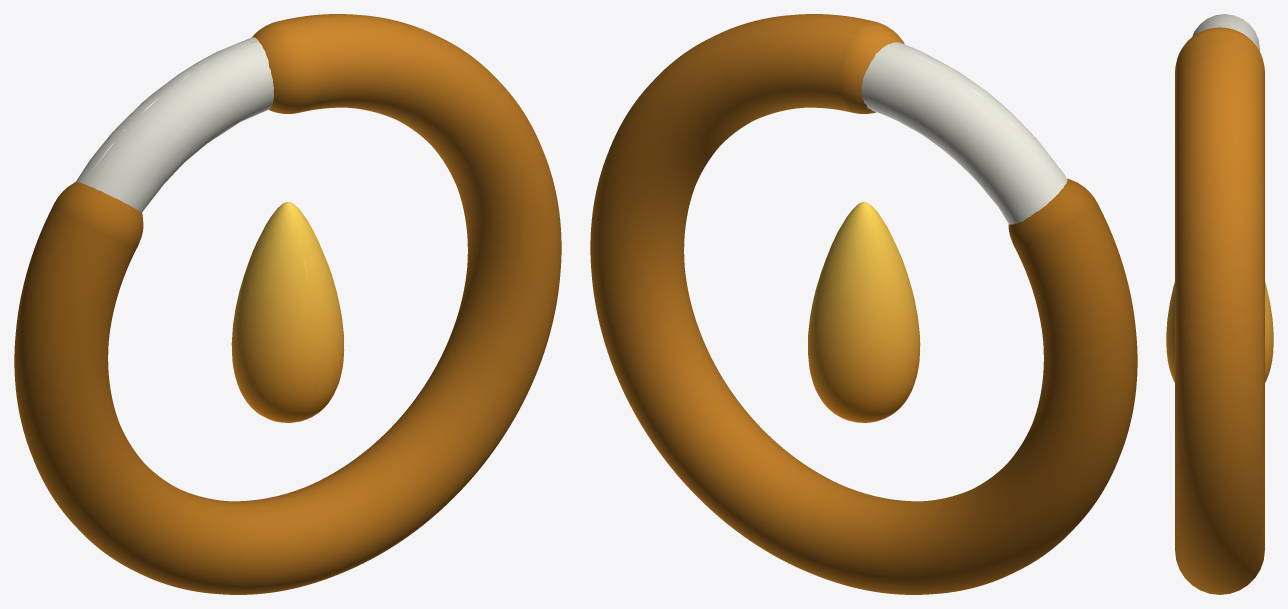
The model's file is fat.glb.
3 views of the same model, side by side, from view 1: azimuth 30°, elevation 25°; view 2: azimuth 150°, elevation 25°; view 3: azimuth 270°, elevation 25° (orthographic). The views are drawn at different scales.
Parts seen in each view (by area): view 1: fat-arc, droplet, fat-track, fat-start, fat-end; view 2: fat-arc, droplet, fat-track, fat-start, fat-end; view 3: fat-arc, droplet, fat-track, fat-start.
Boxes of the visible parts, box(x1,y1,x2,y2) form: fat-arc: box(14, 14, 561, 594); droplet: box(231, 202, 344, 422); fat-track: box(76, 37, 273, 212); fat-start: box(252, 20, 313, 113); fat-end: box(53, 182, 143, 248); fat-arc: box(590, 14, 1137, 594); droplet: box(808, 202, 920, 422); fat-track: box(861, 42, 1067, 224); fat-start: box(838, 20, 904, 113); fat-end: box(1008, 178, 1098, 248); fat-arc: box(1175, 32, 1264, 594); droplet: box(1166, 282, 1273, 382); fat-track: box(1192, 14, 1259, 51); fat-start: box(1175, 27, 1264, 70).
Bounding box in the file's own units: 1.84 × 1.84 × 0.3352.
